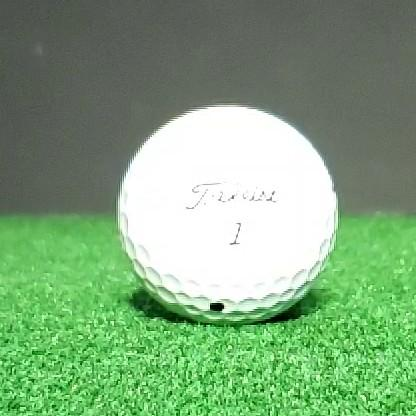golfball: (118, 106, 338, 326)
